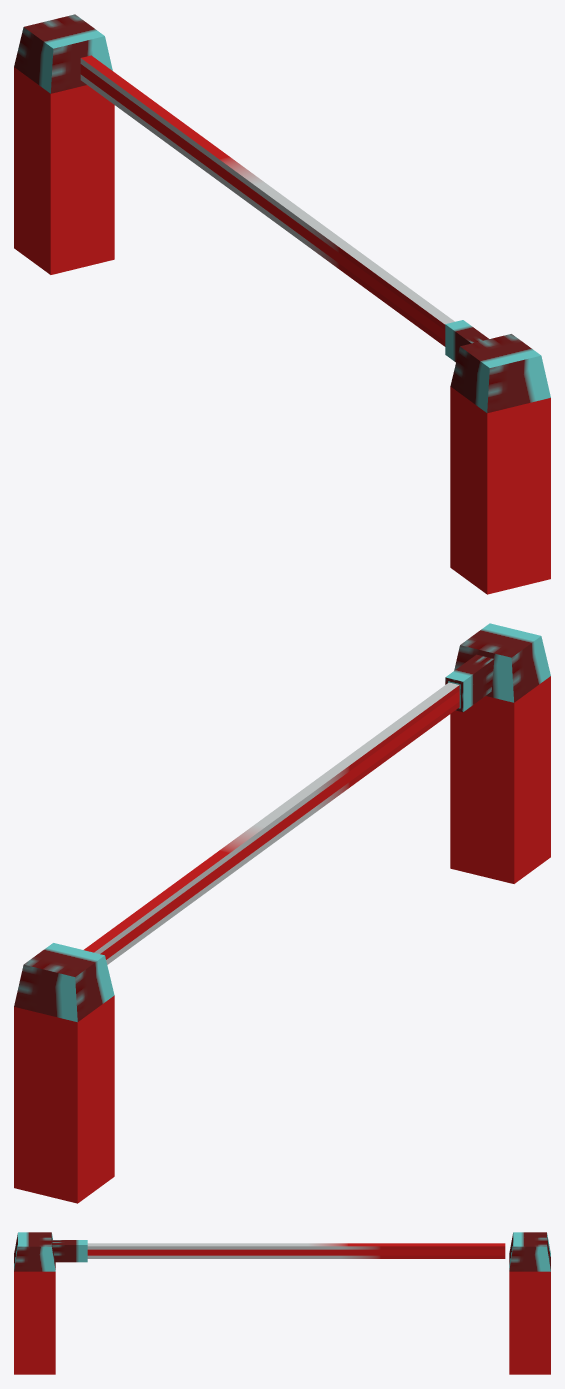
Rendered from SM_Barrier_01.FBX.
3 renders of one model, top to bottom at view 1: azimuth 30°, elevation 25°; view 2: azimuth 150°, elevation 25°; view 3: azimuth 270°, elevation 25°, orthographic. The views are drawn at different scales.
Parts seen in each view (by area): view 1: SM_Barrier_01; view 2: SM_Barrier_01; view 3: SM_Barrier_01.
Part boxes in pixels (left/top/right/bottom): SM_Barrier_01: left=14, top=14, right=550, bottom=594; SM_Barrier_01: left=14, top=623, right=550, bottom=1203; SM_Barrier_01: left=14, top=1232, right=550, bottom=1374.
Size of the model in its own units: 0.3 by 1 by 3.86.
1 material, 1 textured.
